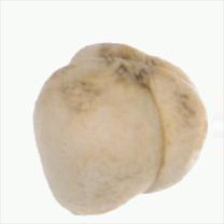L3: (121, 182, 176, 206)
L4: (33, 42, 208, 215)
